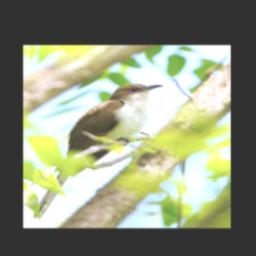Cuckoo: (30, 82, 164, 220)
